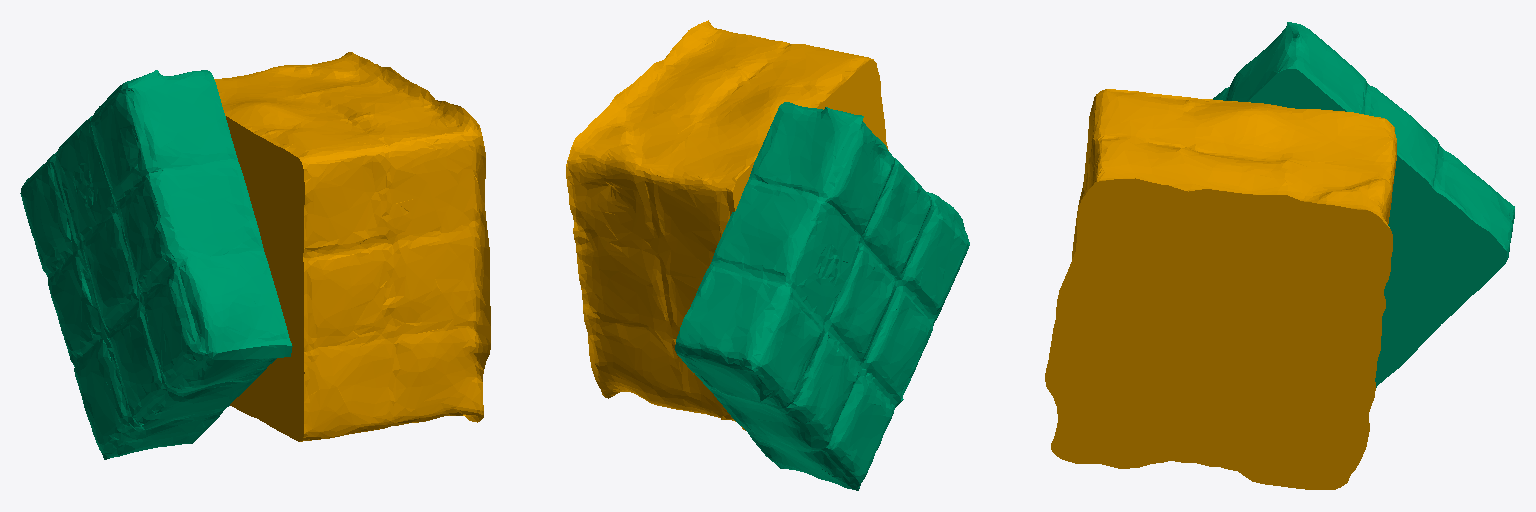
URDF robot description (rubikscube):
<?xml version="1.0"?>
<robot name="rubikscube">
  <link name ="rb0">
    <visual>
      <origin xyz='0.013544 0.023828 -0.070847' rpy='-0.057180 -0.461618 -1.583298'/>
      <geometry>
        <mesh filename="package://articulated_objects_db/data/objects/rubikscube/meshes/rc_bottom.obj"  scale="1 1 1" />
      </geometry>
    </visual>
  </link>
  <joint name="j_0_1" type="revolute">
    <parent link="rb0"/>
    <child link="rb1"/>
    <origin xyz="-0.0666413818615 0.0342963365575 -0.0565174419351" rpy="0 0 0 "/>
    <axis xyz="-0.998187925491 0.0558232951436 0.0224638625865"/>
    <limit effort="30" velocity="1.0" lower="-3.1416" upper="3.1416"/>
  </joint>
  <joint name="j_0_fixed" type="fixed">
    <parent link="rb1"/>
    <child link="rb1_marker"/>
      <origin xyz="0.00346645152116 0.0651248873899 -0.00615567880302" rpy="-1.71724658277 -0.658770689999 -1.4319974881"/>
    <limit effort="30" velocity="1.0" lower="-3.1416" upper="3.1416"/>
  </joint>
  <link name ="rb1">
  </link>
  <link name ="rb1_marker">
    <visual>
      <origin xyz='0.056608 0.037683 0.056077' rpy='1.454341 -0.051151 -1.987933'/>
      <geometry>
        <mesh filename="package://articulated_objects_db/data/objects/rubikscube/meshes/rc_top.obj"  scale="1 1 1" />
      </geometry>
    </visual>
  </link>
</robot>

--- What the picture shows (computed from the rendered views, not written in the file) ---
3 views of the same robot in one strip: view 1: azimuth 30°, elevation 25°; view 2: azimuth 150°, elevation 25°; view 3: azimuth 270°, elevation 25° (orthographic).
Robot: rubikscube — 3 links, 2 joints (1 revolute, 1 fixed); root link rb0; default pose: every joint at zero.
Links seen in each view (by area): view 1: rb0, rb1_marker; view 2: rb1_marker, rb0; view 3: rb0, rb1_marker.
Link boxes in pixels (x1=…): rb0: x1=214, y1=52, x2=490, y2=441; rb1_marker: x1=20, y1=70, x2=292, y2=459; rb1_marker: x1=675, y1=102, x2=969, y2=490; rb0: x1=566, y1=20, x2=888, y2=430; rb0: x1=1045, y1=89, x2=1396, y2=489; rb1_marker: x1=1213, y1=22, x2=1514, y2=387.
Bounding box of the posed robot: 0.0942 × 0.1312 × 0.1213 m (x, y, z).
2 mesh visuals loaded from 2 distinct referenced files (2 OBJ).